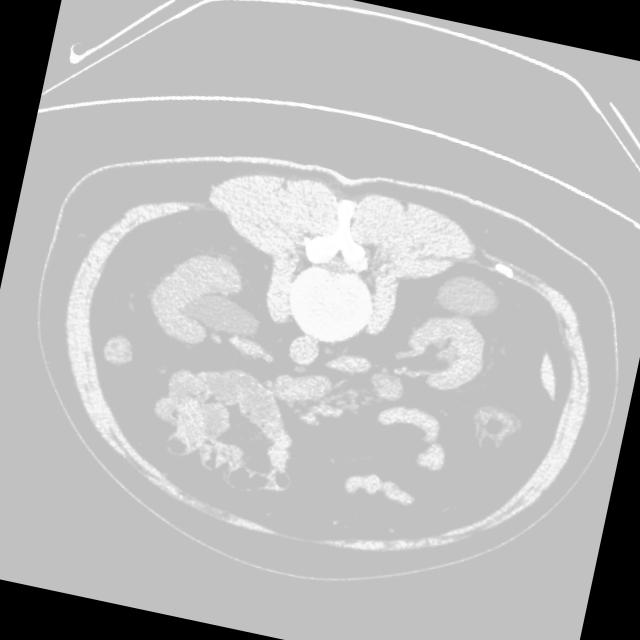cysts: (20, 120, 629, 604)
